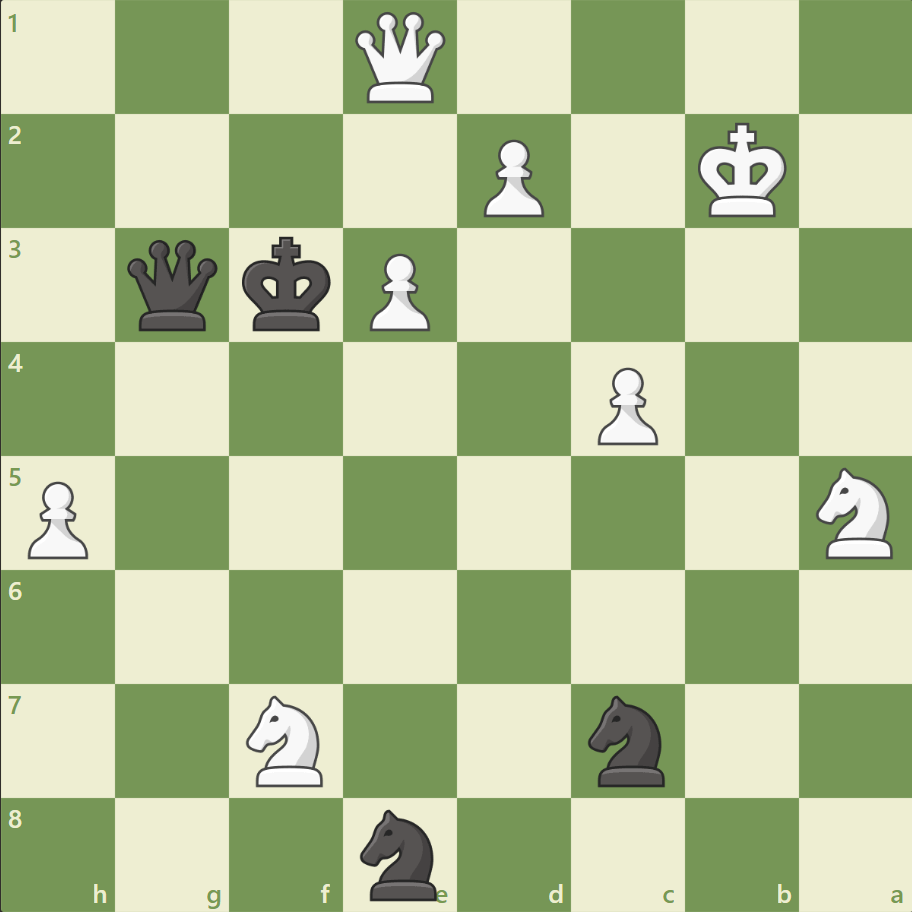K: (692, 117, 792, 225)
N: (238, 688, 335, 791), (806, 461, 903, 564)
P: (20, 473, 95, 564), (474, 132, 549, 223), (588, 359, 662, 450), (361, 246, 435, 337)
Q: (351, 9, 450, 108)
k: (238, 231, 338, 339)
n: (351, 802, 449, 904), (579, 688, 676, 791)
q: (124, 236, 223, 335)
